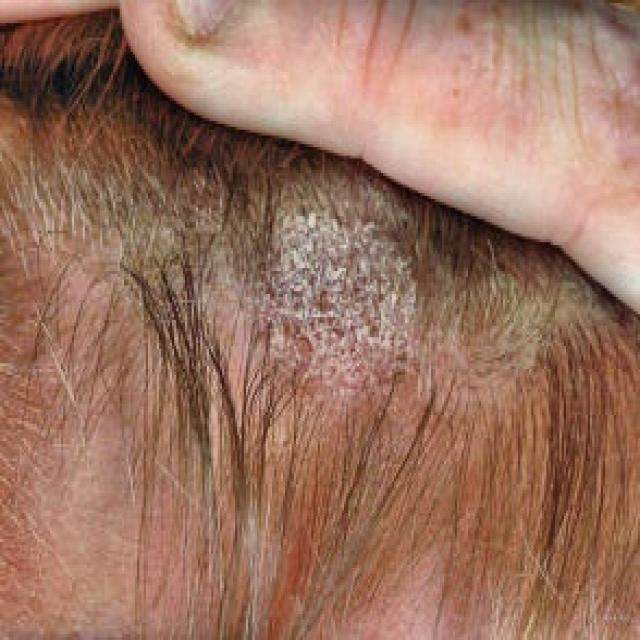Tinea Ringworm Candidiasis and other Fungal Infections: (195, 222, 473, 398)
